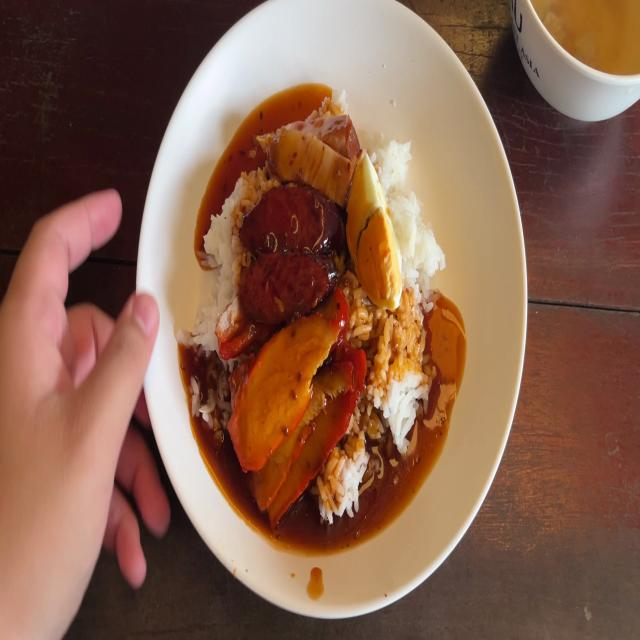01boiled_egg: (353, 144, 396, 301)
01chainese_sausage: (232, 186, 332, 302)
01crispy_pork: (266, 95, 353, 189)
01red_pork: (228, 314, 348, 492)
01red_pork_and_crispy_pork: (188, 89, 438, 523)
01rice: (382, 141, 443, 293), (375, 294, 425, 447)
